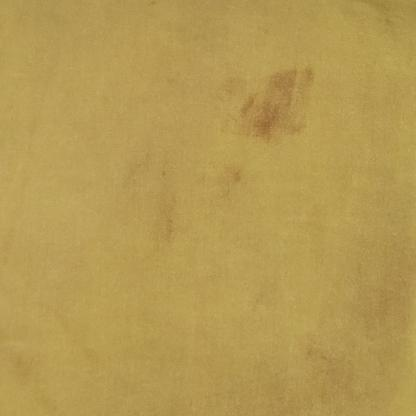spot: (232, 55, 346, 149), (321, 281, 403, 398), (146, 180, 184, 260), (204, 155, 256, 197)
